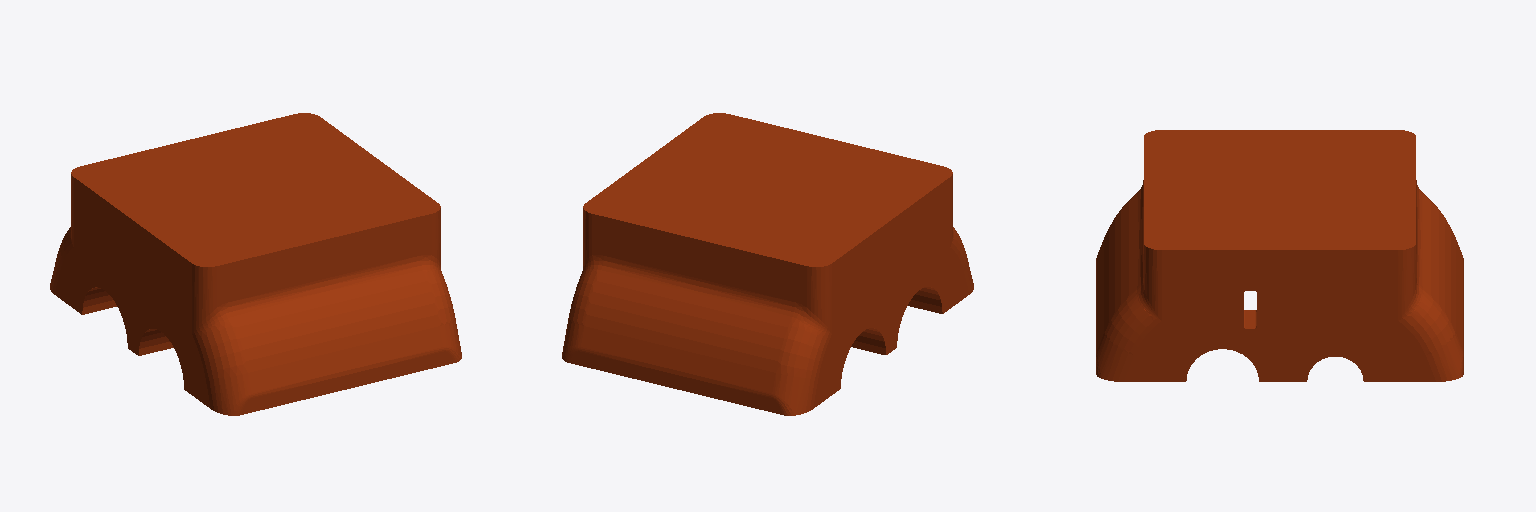
File: N0-000_pc_gfx.obj
The picture shows the model from 3 angles: view 1: azimuth 30°, elevation 25°; view 2: azimuth 150°, elevation 25°; view 3: azimuth 270°, elevation 25°; orthographic projection.
Parts seen in each view (by area): view 1: N0-000; view 2: N0-000; view 3: N0-000.
Part boxes in pixels (x1,y1,x2,y2): N0-000: (50,113,461,415); N0-000: (562,113,973,415); N0-000: (1096,130,1463,381).
Bounding box in the file's own units: 0.1268 × 0.0648 × 0.1636.